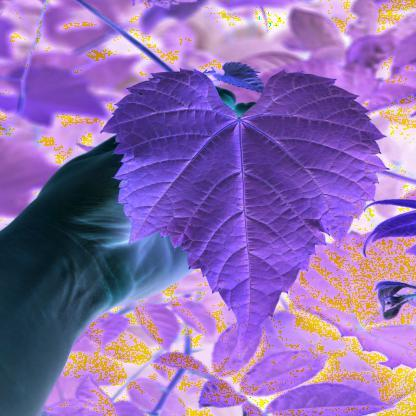grape leaf black rot: (99, 69, 388, 357)
